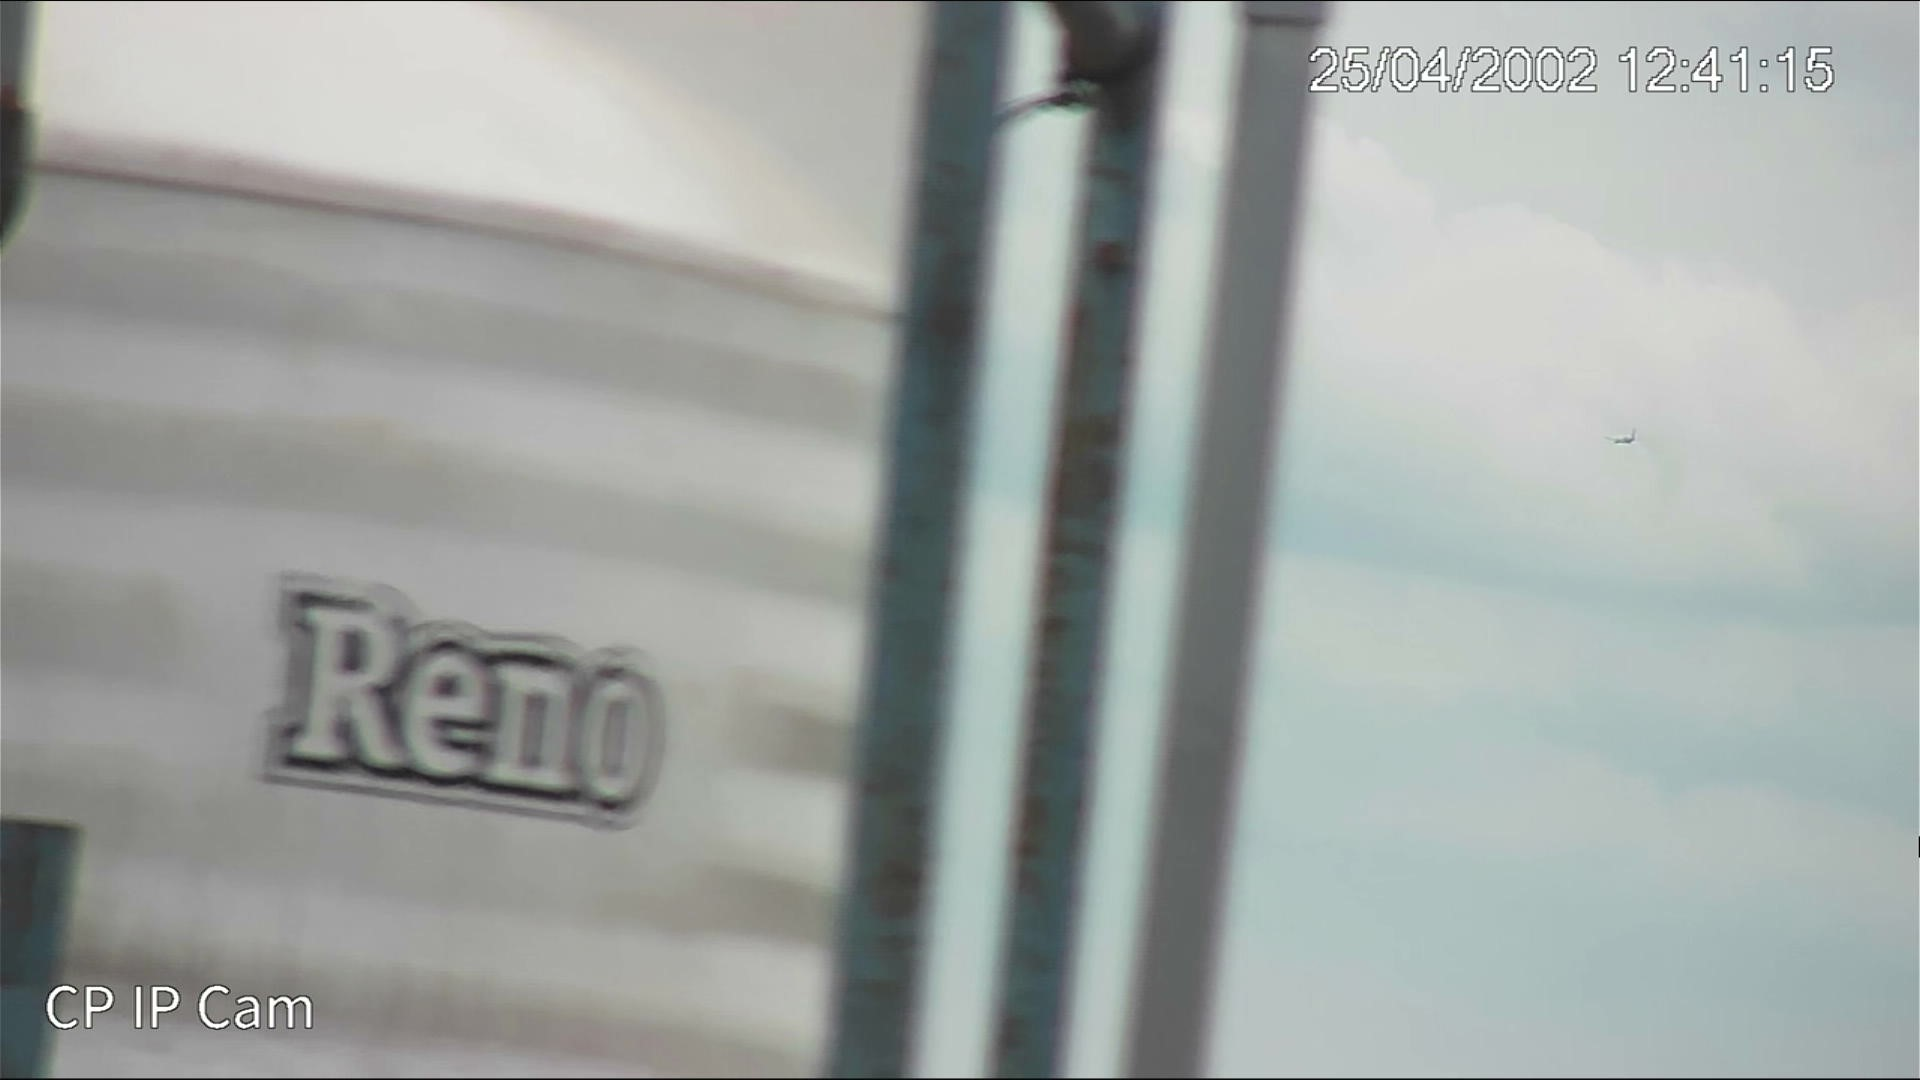SU_30: (1605, 429, 1640, 447)
